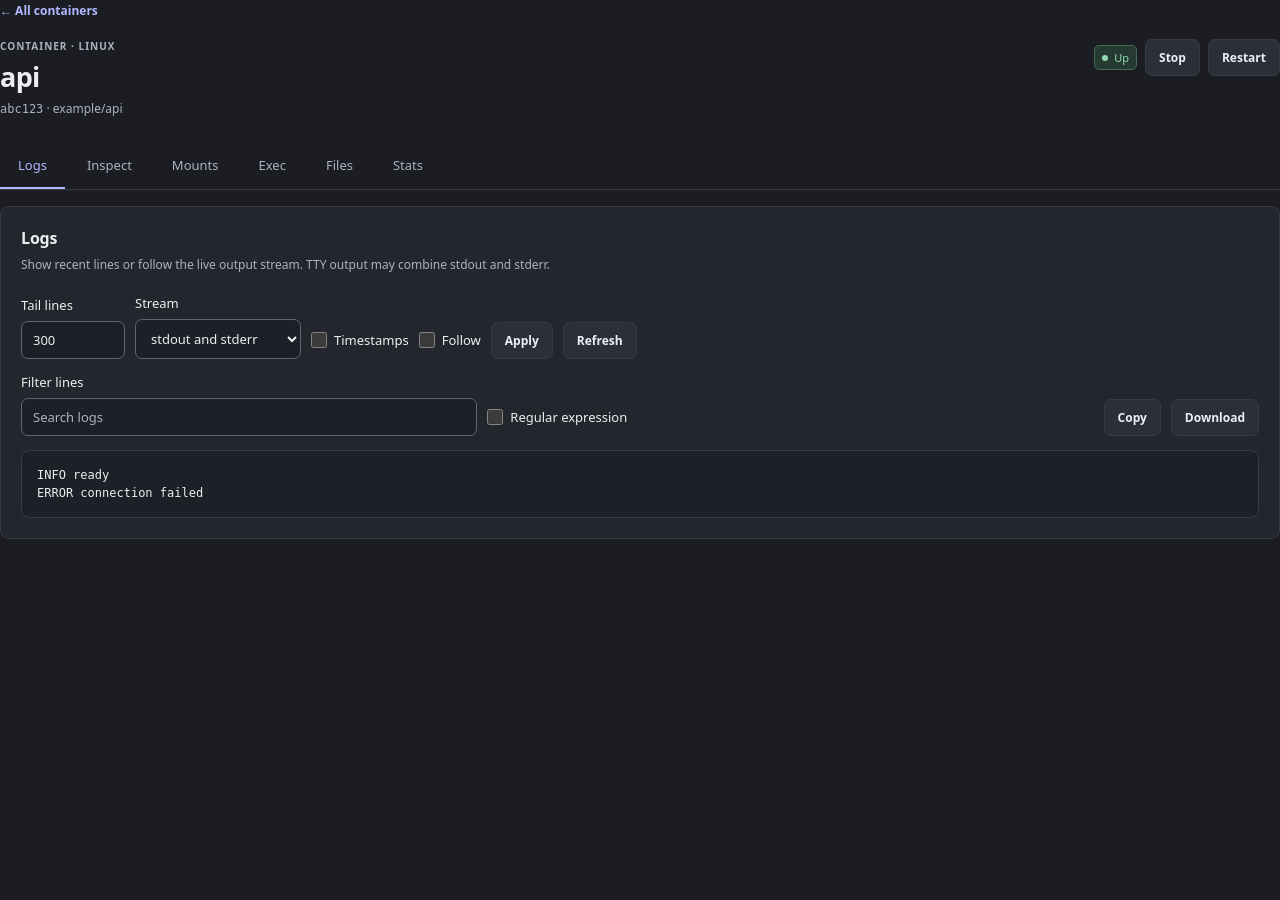
Test: writes final terminal output before reporting exit and closes the session
Click the button "Exec". click: (272, 166)
box: [240,143,304,189]
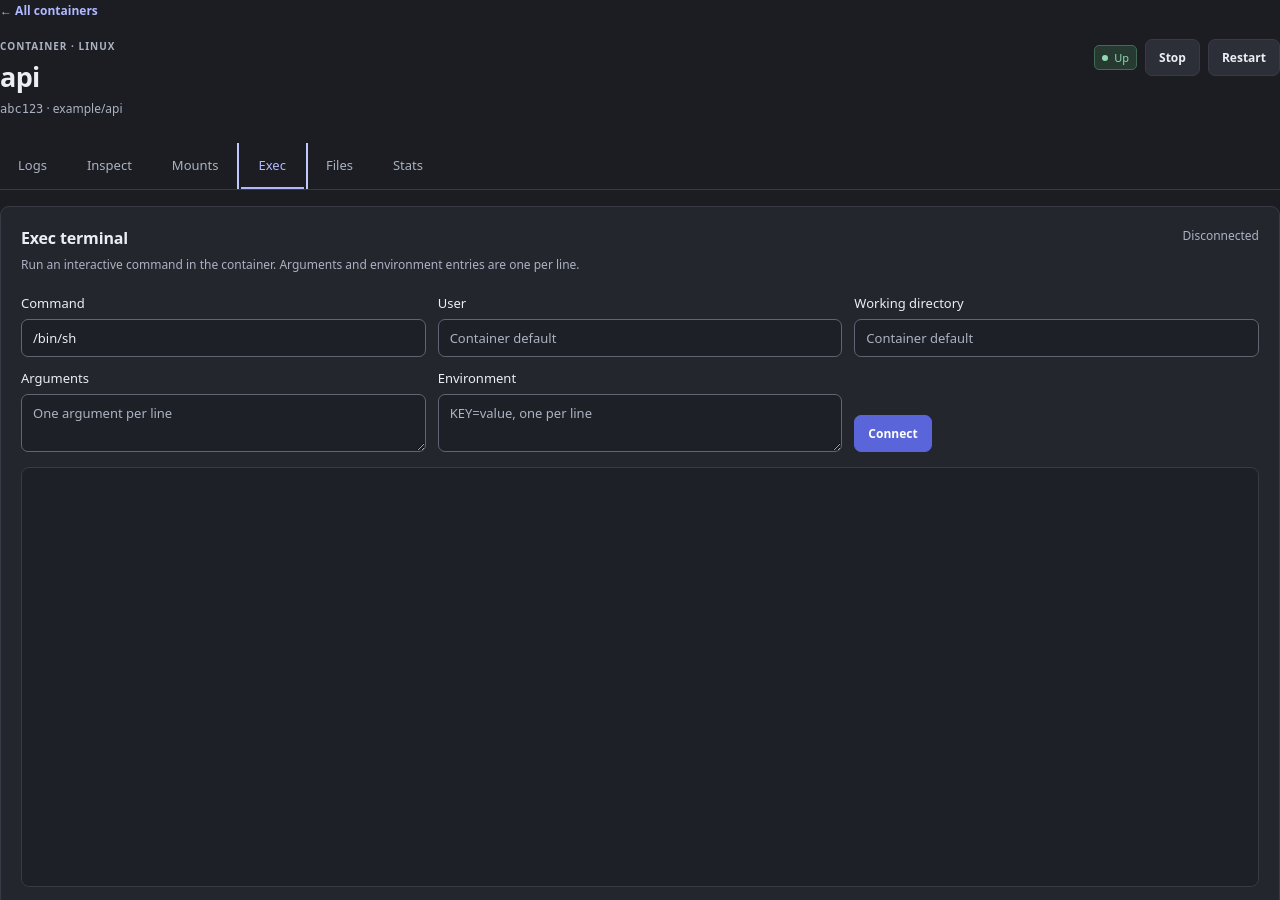
Click the button "Connect". click: (893, 434)
box: [854,415,932,452]
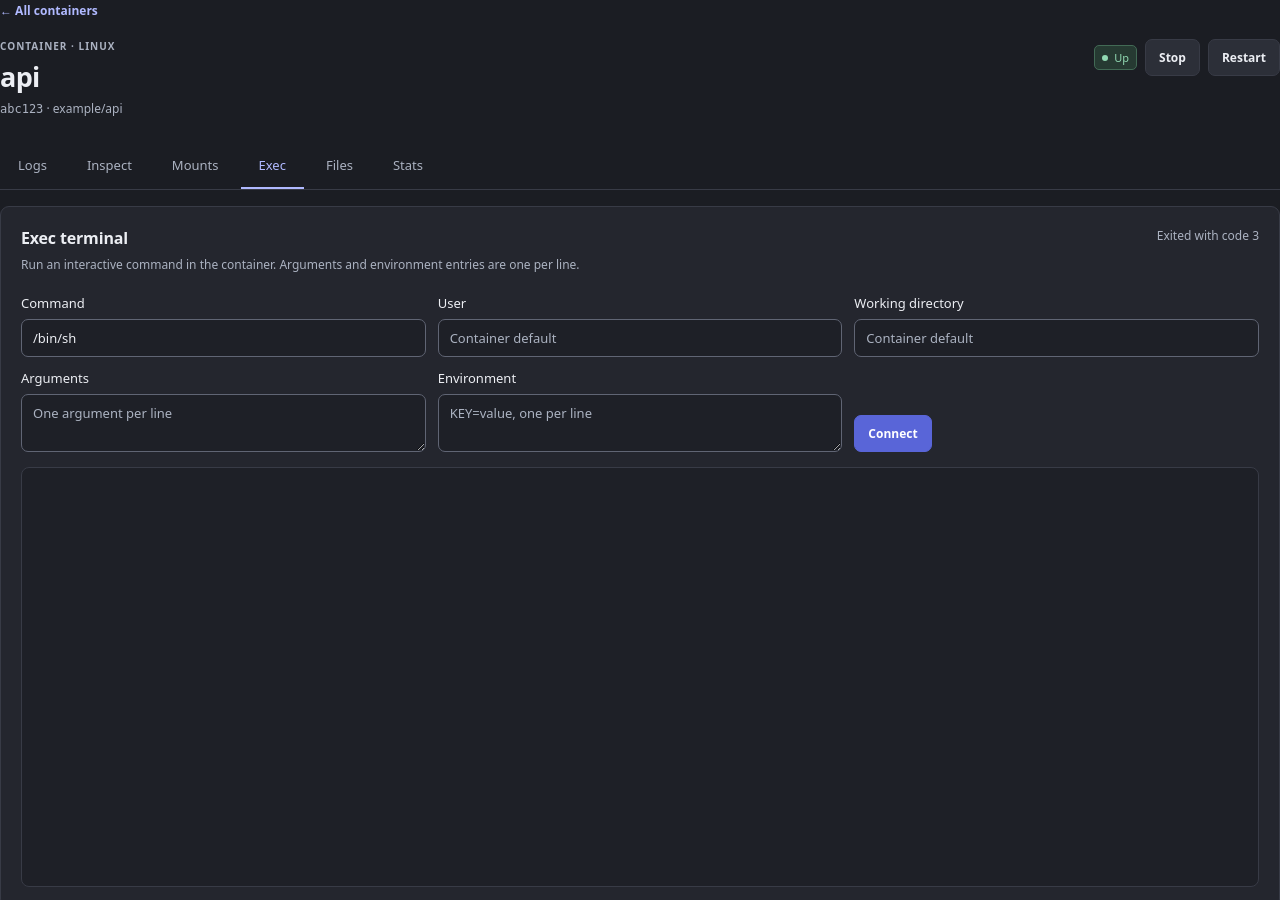
Expected: the text "Exited with code 3" is shown, [1157,227,1259,244]
